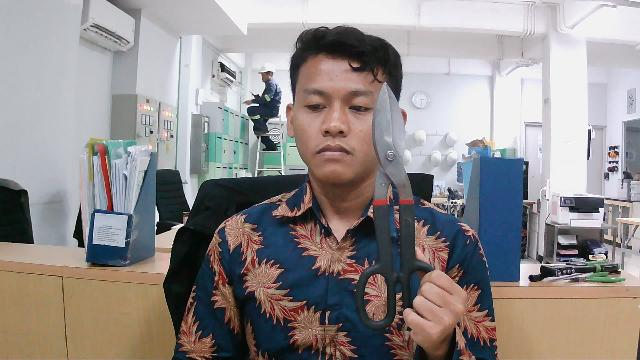gunting_plat: (347, 73, 467, 341)
